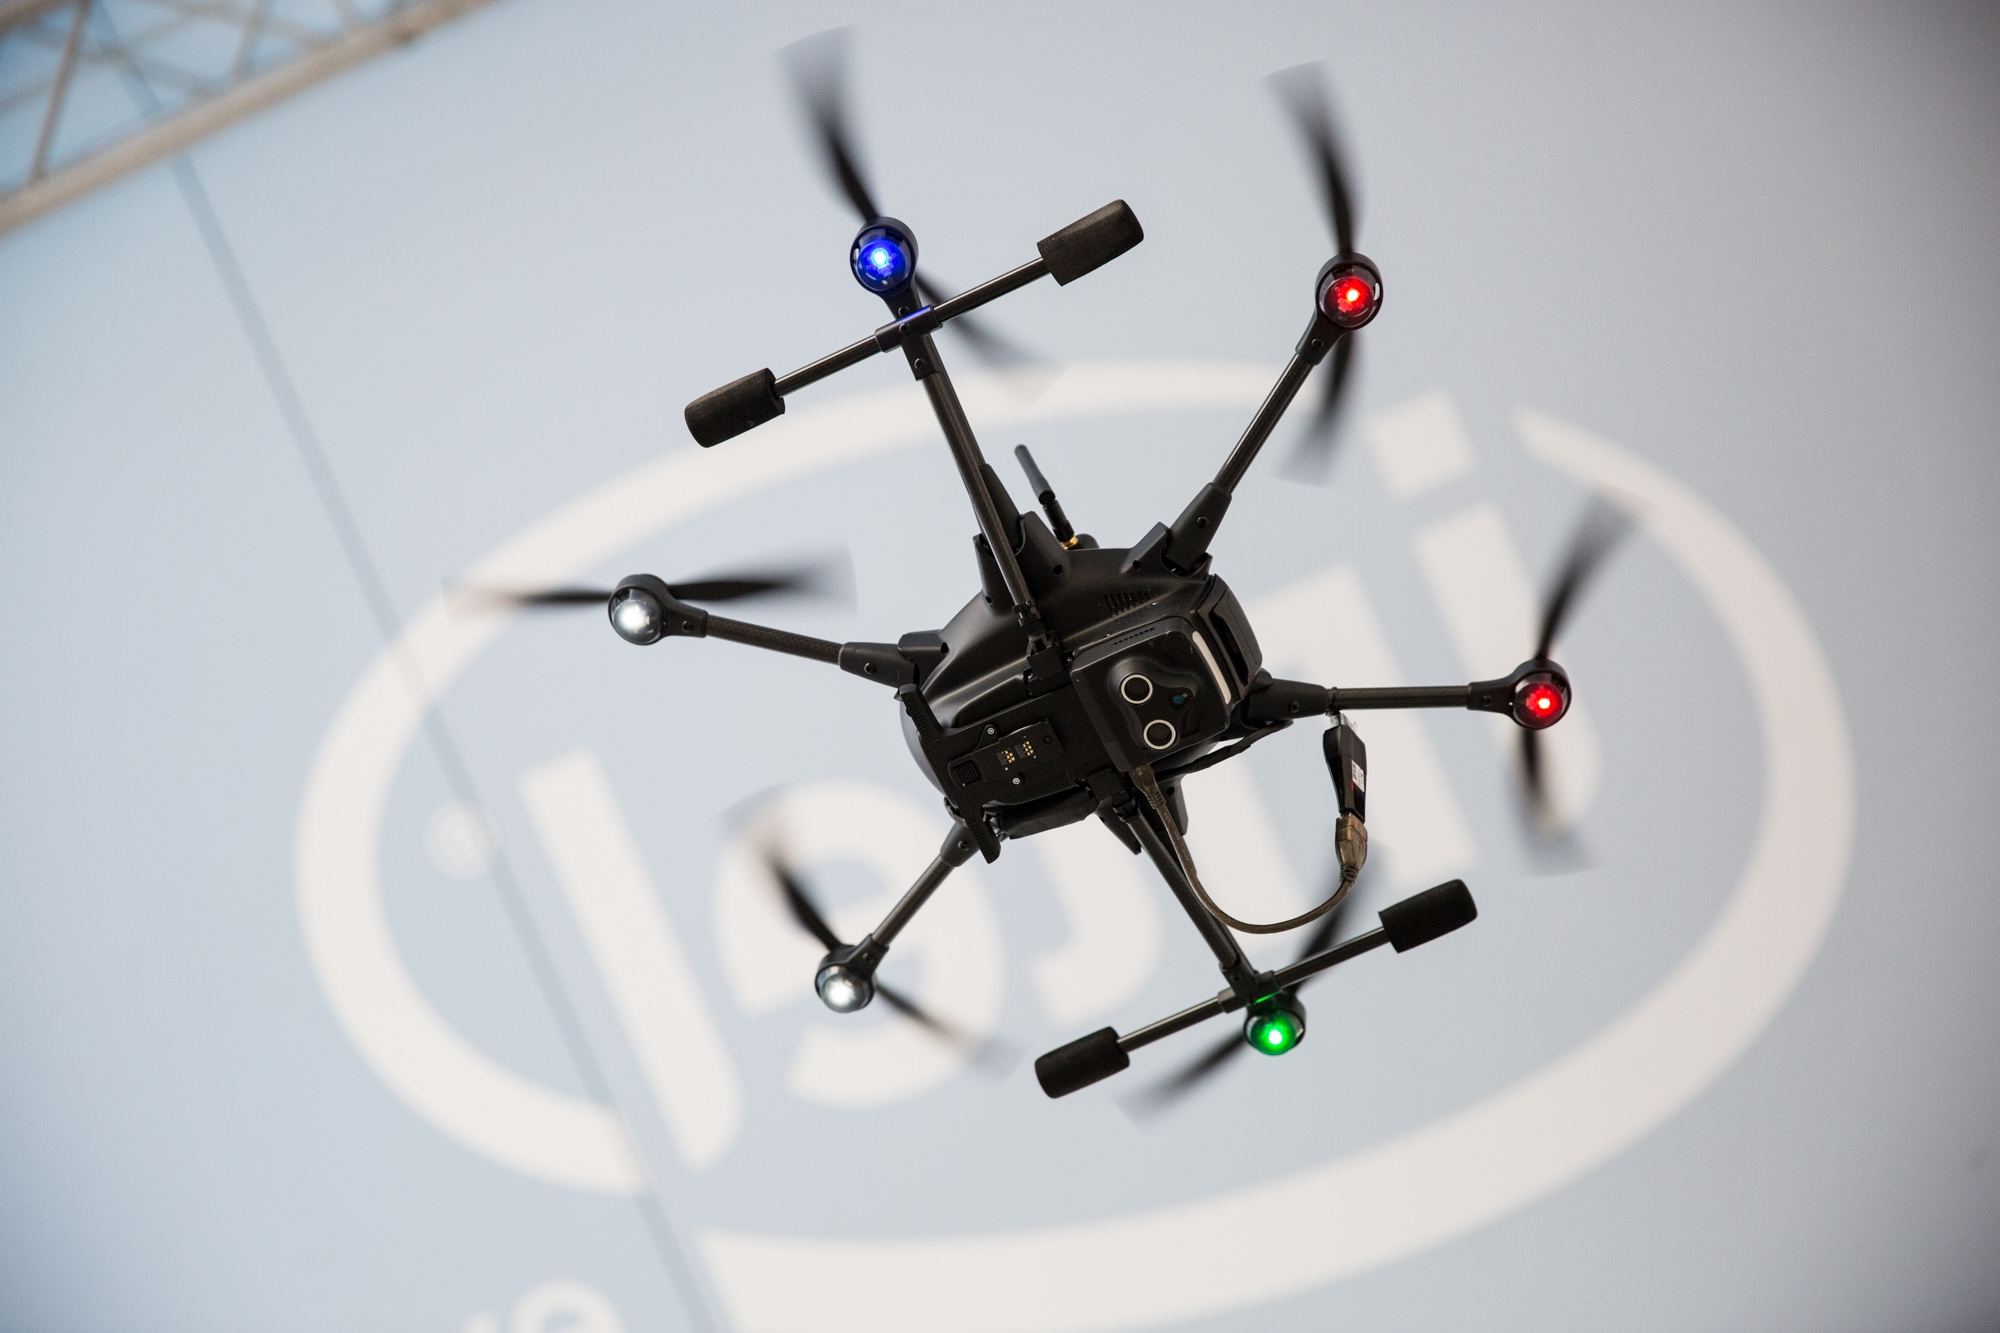drone: (446, 24, 1668, 1135)
